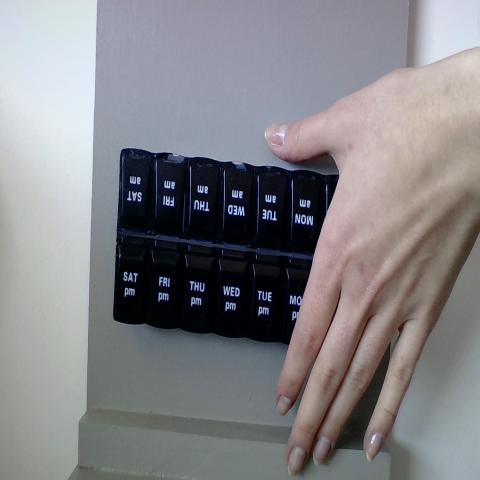FRI-am: (157, 150, 186, 236)
FRI-pm: (151, 240, 181, 324)
Hands: (276, 63, 480, 474)
MON-am: (292, 173, 321, 253)
SAT-am: (119, 152, 156, 229)
SAT-pm: (118, 235, 150, 322)
THU-am: (187, 163, 220, 242)
THU-pm: (182, 247, 216, 334)
TUE-am: (257, 168, 290, 250)
TUE-pm: (251, 255, 283, 338)
WED-am: (222, 166, 258, 244)
WED-pm: (217, 253, 248, 336)
